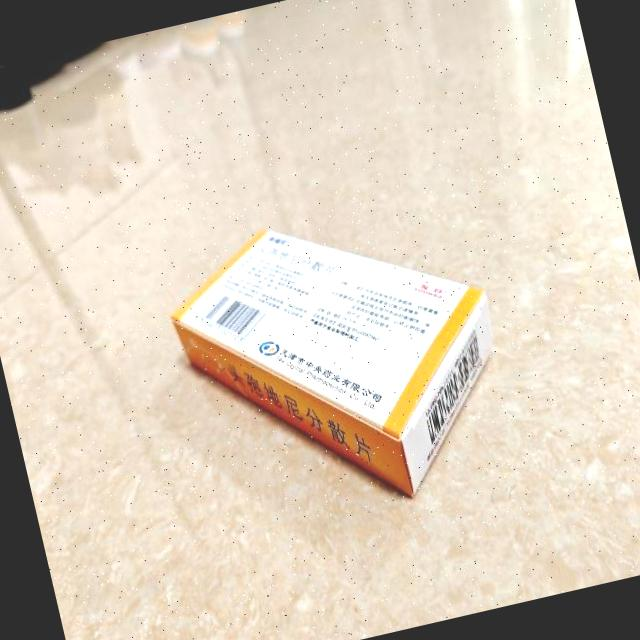box: (153, 183, 527, 542)
